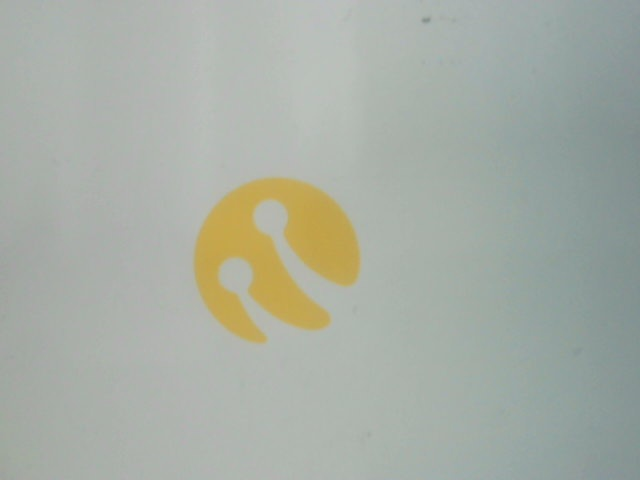AV_H3600Yellow: (182, 180, 372, 340)
